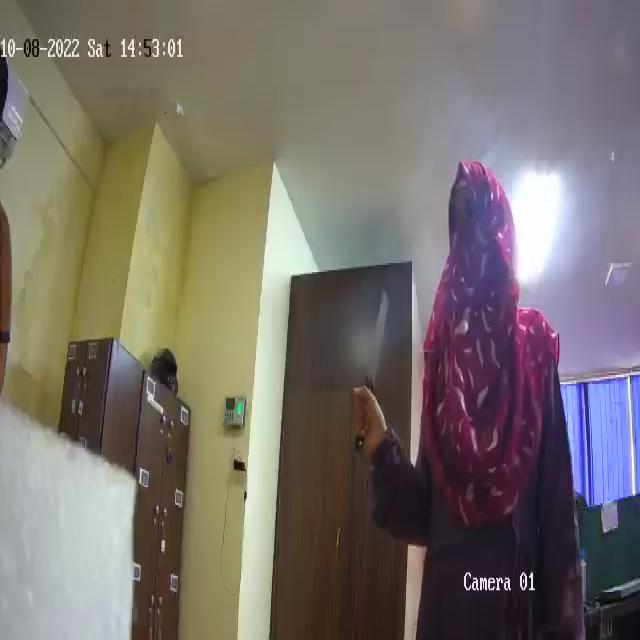Knife: (354, 286, 391, 459)
